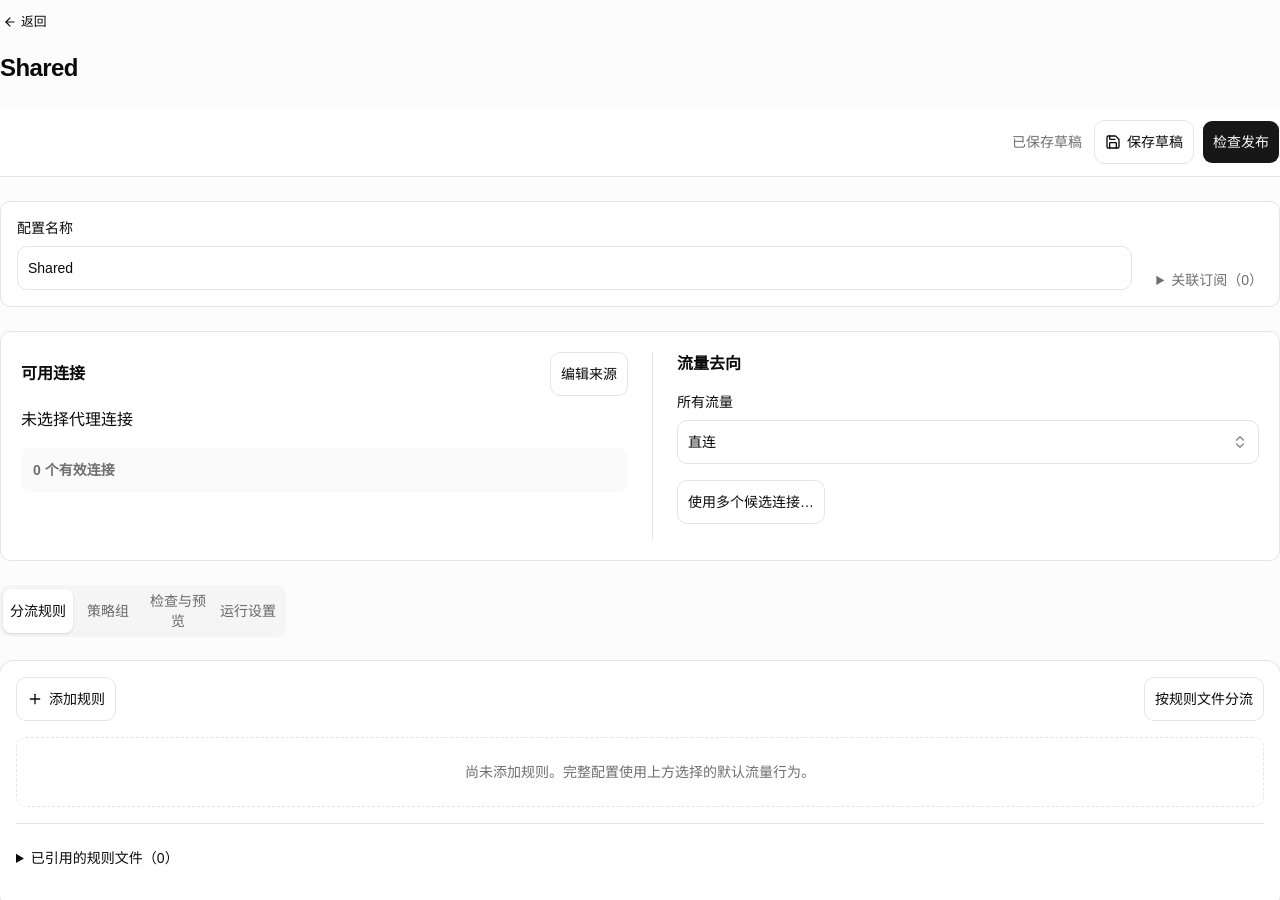
it: does not resurrect a missing preferred output from stale entry context
Click the button "检查发布". click: (1241, 142)
box: [1202,120,1279,164]
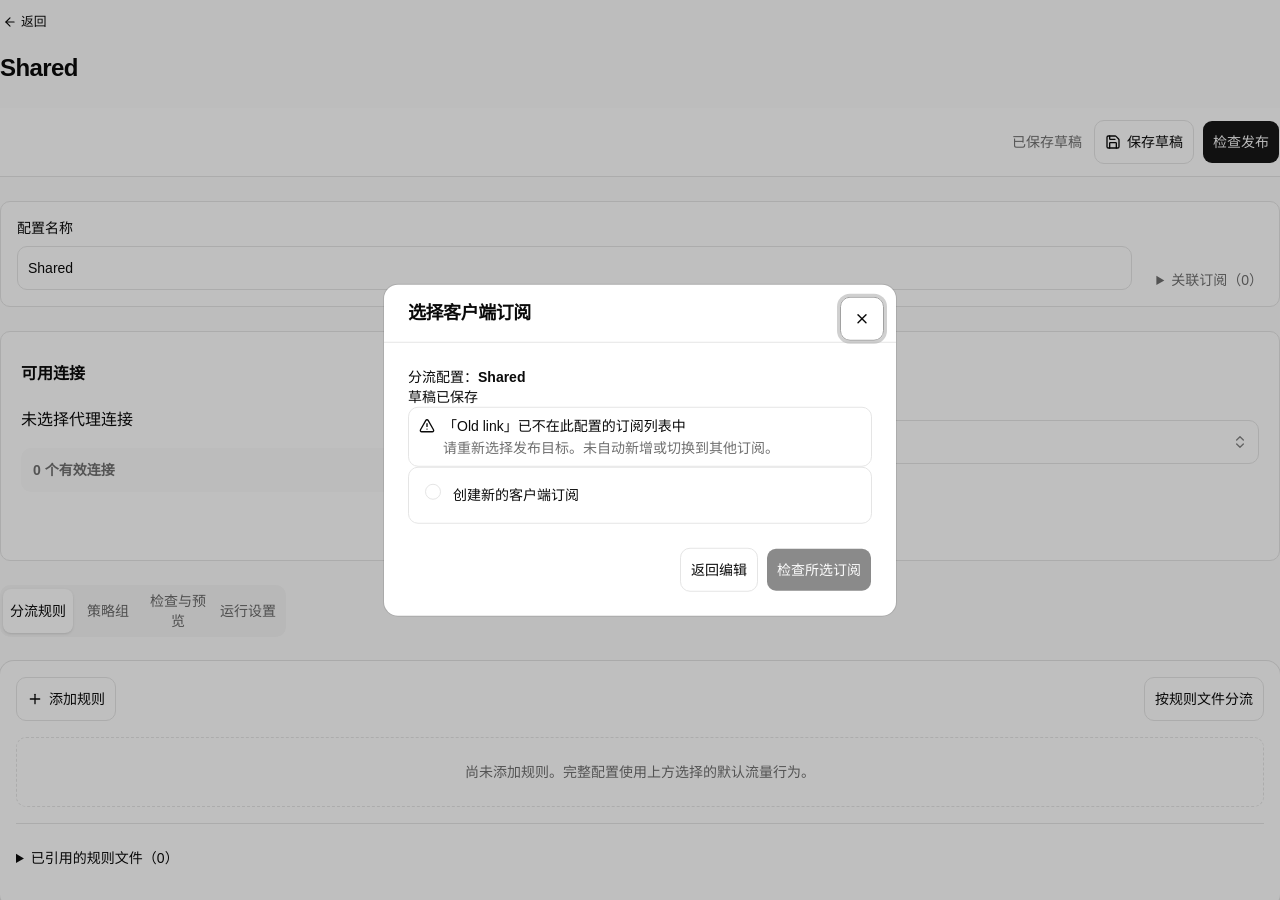
Expected: the text "「Old link」已不在此配置的订阅列表中" is shown, [443,418,686,434]
Expected: the button "检查所选订阅" is disabled, [766,547,872,591]
